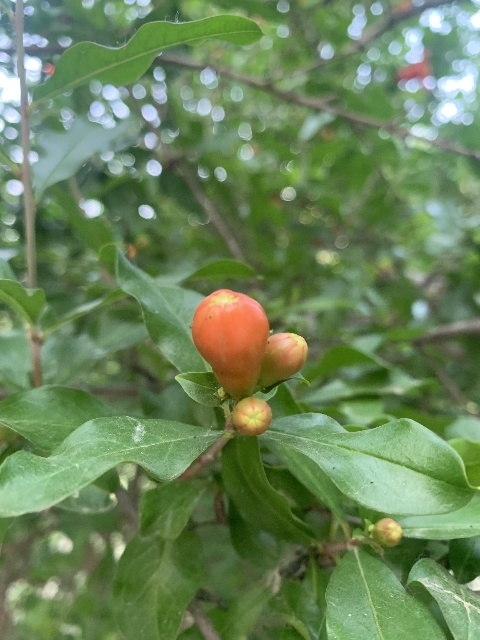bud: (191, 289, 269, 397), (257, 332, 308, 388), (232, 396, 272, 436), (371, 516, 403, 547)
